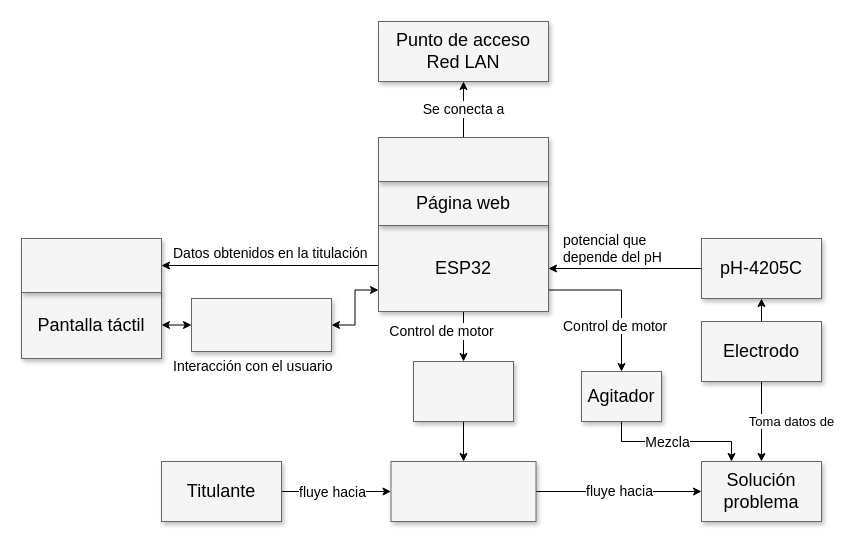
Image size: 851x546. Some labels were removed from this diagram. The shapes that lost their labels are listed below. From the top down, each one's centre as x and y in pixels, then its label:
At (464,160): "Wi-Fi".
At (92,267): "Módulo SD".
At (262,326): "ATmega328p".
At (464,392): "DVR8825".
At (464,492): "Bomba".
